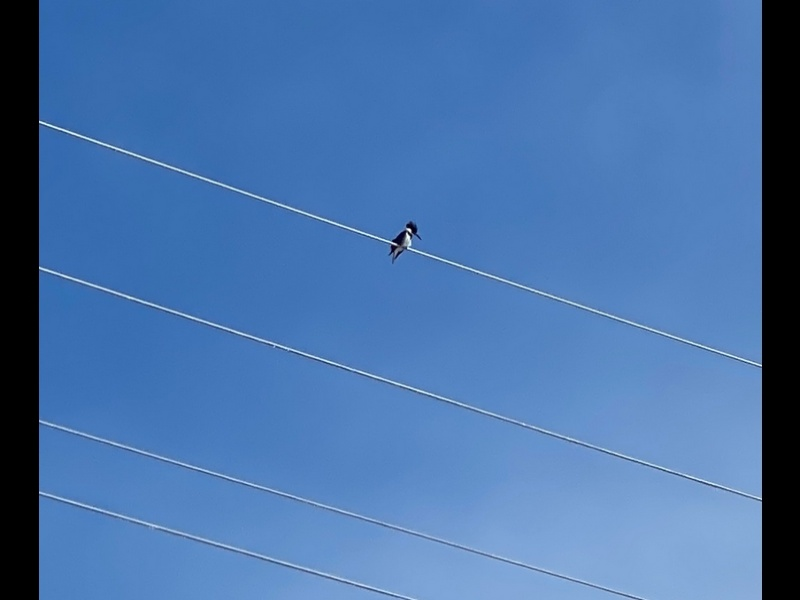kingfisher: (388, 220, 422, 266)
